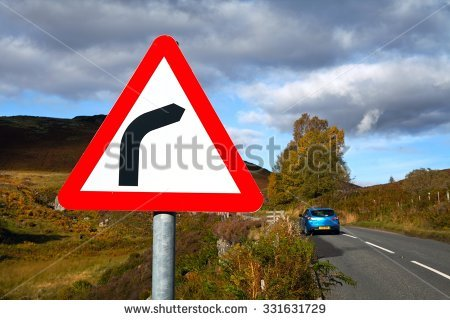Bend_to_right: (51, 34, 268, 216)
car: (297, 206, 341, 237)
